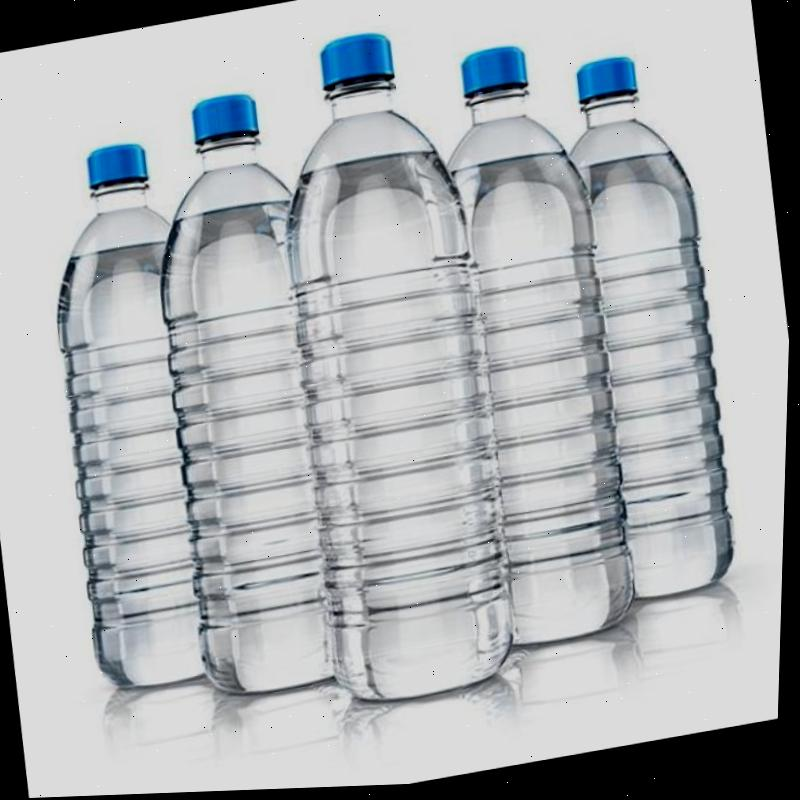botella: (244, 19, 534, 717), (414, 38, 654, 661), (125, 88, 364, 709), (28, 137, 236, 697), (552, 48, 756, 615)
